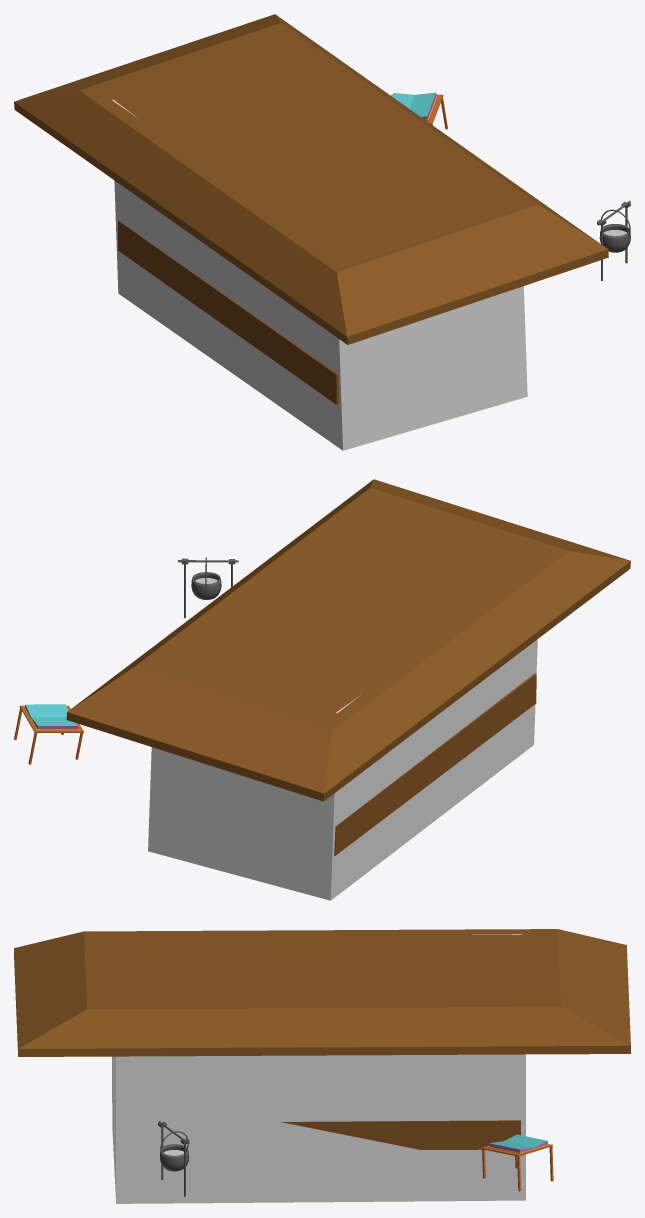
The model's file is IlhaFeiticeiroComplementos.fbx.
The picture shows the model from 3 angles, top to bottom: view 1: azimuth 30°, elevation 25°; view 2: azimuth 150°, elevation 25°; view 3: azimuth 270°, elevation 25°; orthographic projection. The views are drawn at different scales.
Parts seen in each view (by area): view 1: Cube.004, Colisor, Sphere, Cube.001; view 2: Cube.004, Colisor, Sphere, Cube.001, Cube; view 3: Cube.004, Colisor, Sphere, Cube.001, Cube.
Part boxes in pixels (x1=…): Cube.004: x1=14, y1=14, x2=608, y2=404; Colisor: x1=112, y1=99, x2=527, y2=450; Sphere: x1=597, y1=200, x2=630, y2=280; Cube.001: x1=392, y1=92, x2=437, y2=120; Cube.004: x1=66, y1=479, x2=630, y2=855; Colisor: x1=148, y1=639, x2=537, y2=900; Sphere: x1=178, y1=557, x2=238, y2=618; Cube.001: x1=23, y1=704, x2=78, y2=730; Cube: x1=14, y1=705, x2=83, y2=764; Cube.004: x1=14, y1=929, x2=630, y2=1149; Colisor: x1=112, y1=934, x2=525, y2=1203; Sphere: x1=158, y1=1121, x2=189, y2=1196; Cube.001: x1=488, y1=1134, x2=549, y2=1153; Cube: x1=481, y1=1141, x2=553, y2=1191.
Size of the model in its own units: 3308 by 1741 by 4883.
